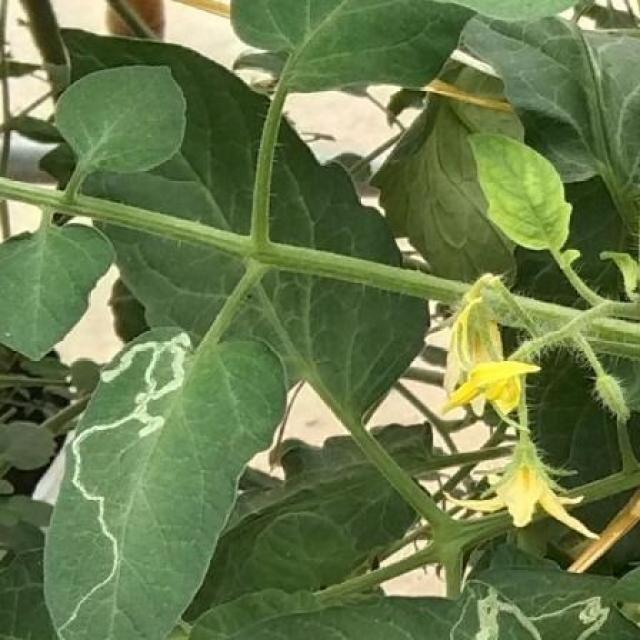Healthy: (0, 220, 120, 361), (53, 63, 184, 174)
Leaf Miner: (38, 325, 291, 640)
